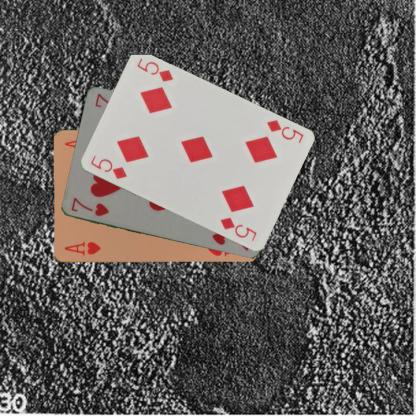5d: (88, 152, 128, 181), (264, 117, 304, 145)
7h: (69, 195, 110, 218)
Ah: (61, 239, 102, 257)
